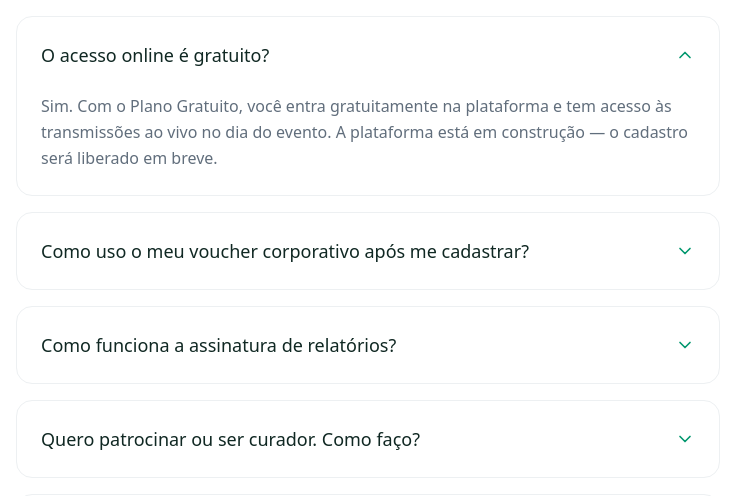
Test: Faq › acordeão exclusivo: abrir uma fecha a anterior
What coordinates should you click on to do the following:
click the button "Como uso o meu voucher corporativo após me cadastrar?"
I would click on:
 (368, 251)
Its box is [17, 213, 719, 289].
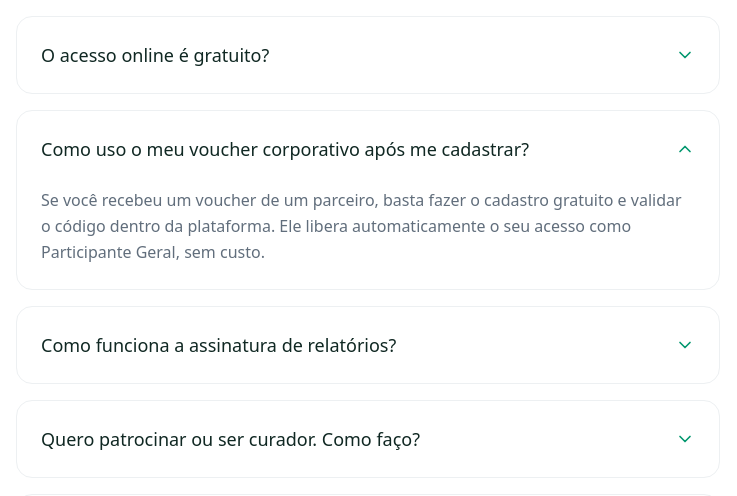
Check: the button "Como uso o meu voucher corporativo após me cadastrar?" is expanded
Check: the button "O acesso online é gratuito?" is collapsed, box [17, 17, 719, 93]
What coordinates should you click on to do the following:
click the button "Como uso o meu voucher corporativo após me cadastrar?"
I would click on:
 (368, 149)
Its box is [17, 111, 719, 187].
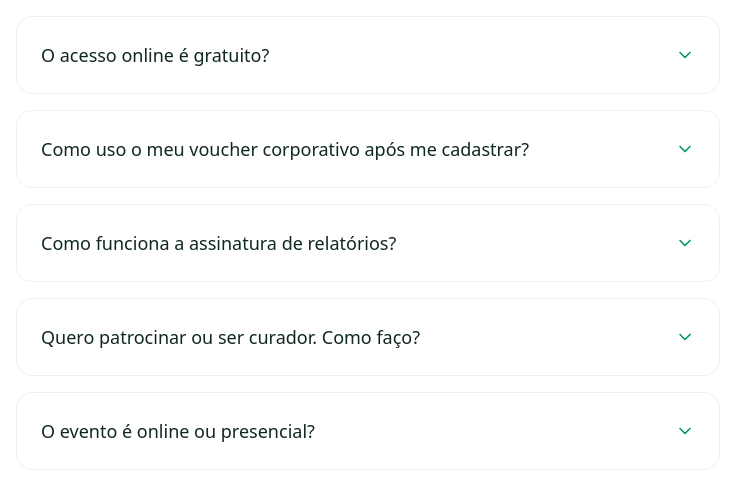
Check: the button "Como uso o meu voucher corporativo após me cadastrar?" is collapsed, box [17, 111, 719, 187]
